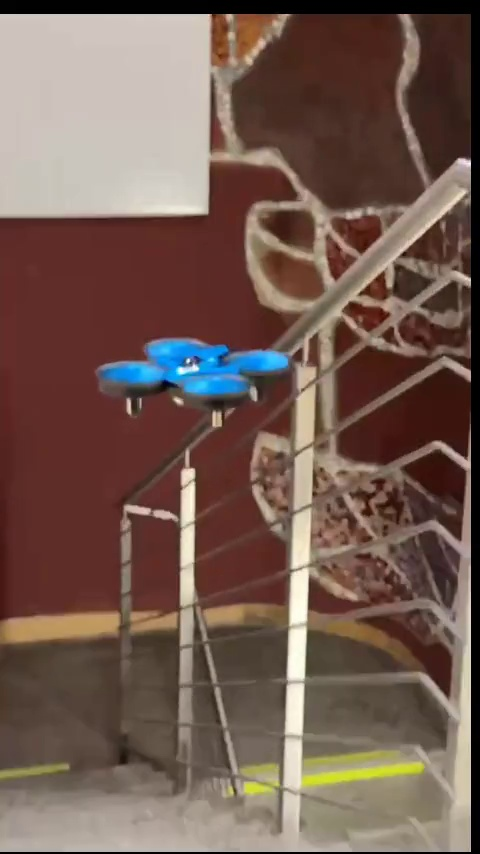drone: (96, 338, 293, 432)
